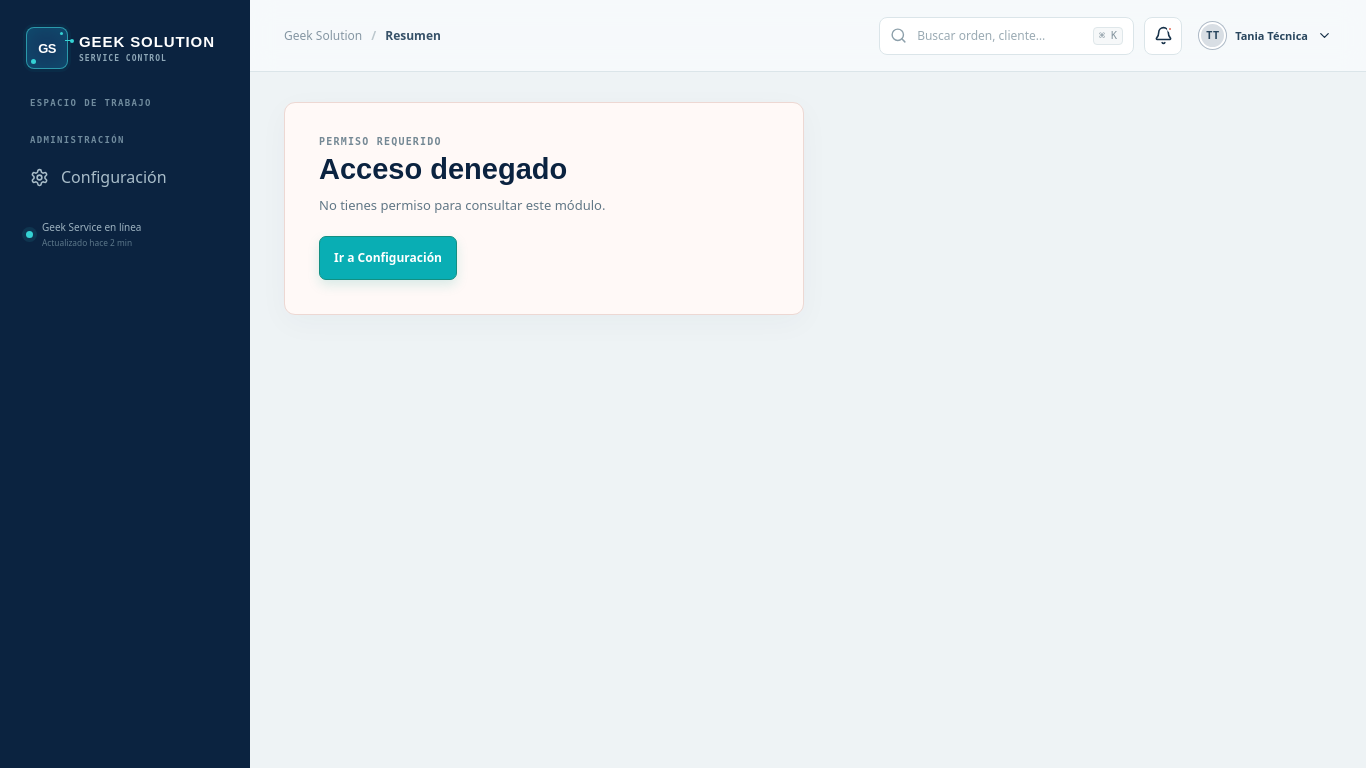
it: AppShell › abre Configuración y Usuarios desde el menú del administrador
Click the button "Configuración" at (125,177), box [18,155,232,199]
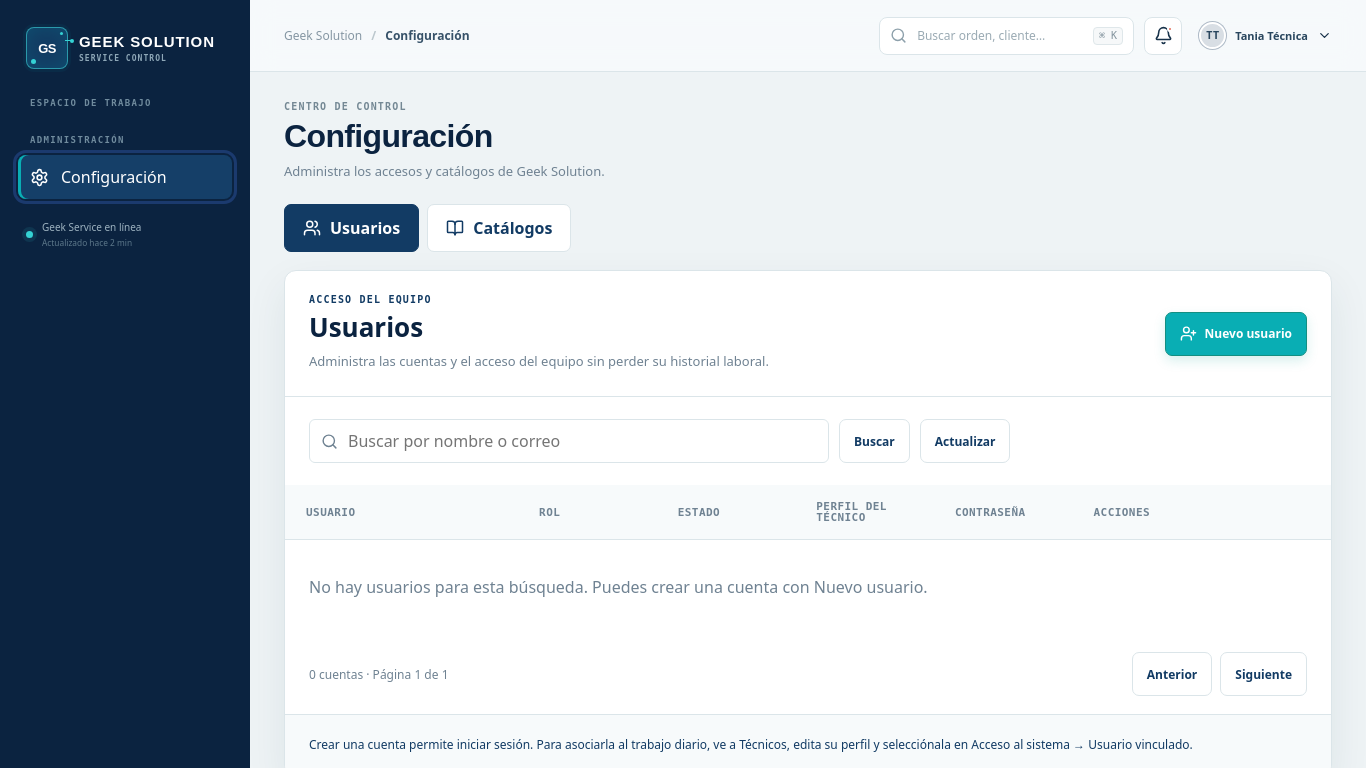
Now the heading "Configuración" is shown, box [284,118,493,154]
Now the heading "Usuarios" is shown, box [309,309,423,345]
Now the button "Nuevo usuario" is shown, box [1165,312,1307,356]
